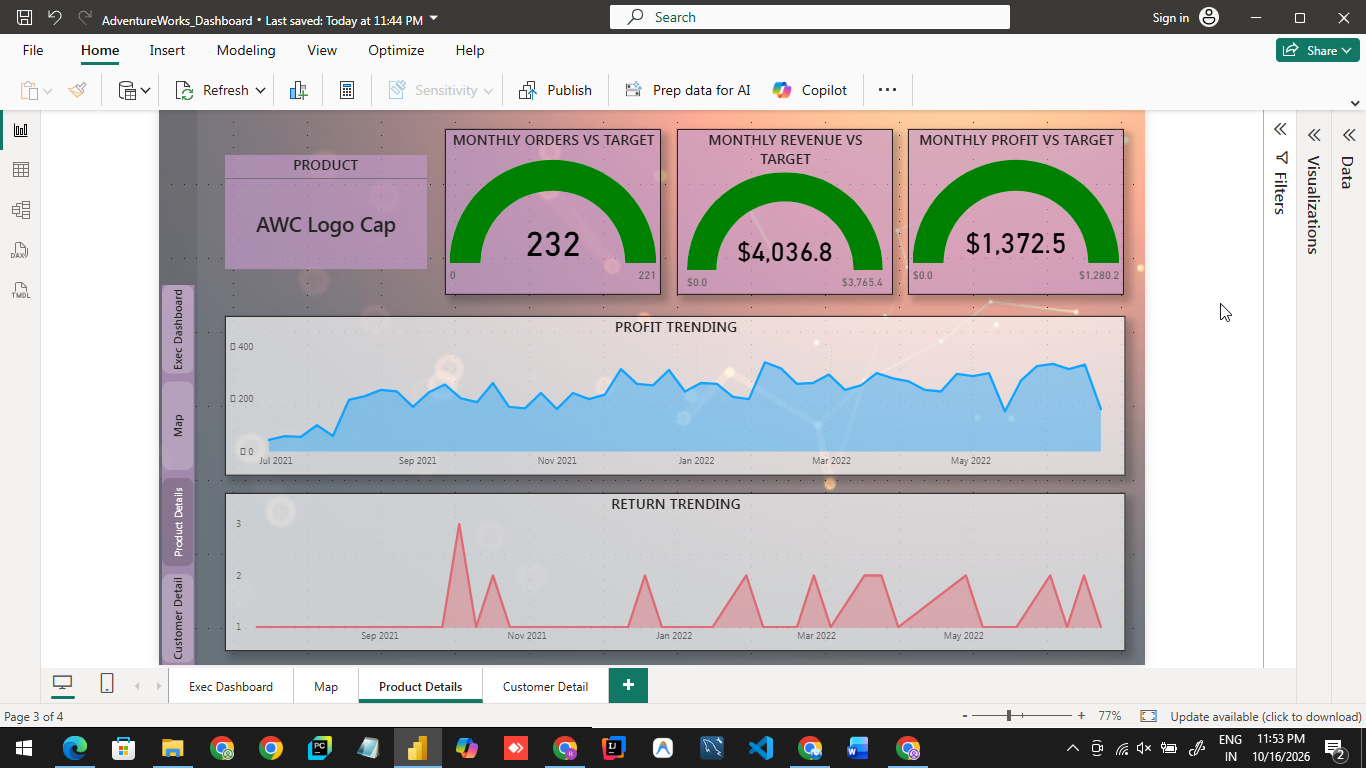

The page's visual inventory and layout, read from the dashboard file:
{"tool":"powerbi","page":{"name":"Product Details","canvas":[1280,720],"ordinal":2},"visuals":[{"type":"gauge","title":"MONTHLY ORDERS VS TARGET","fields":{"Y":["Measure Table.Total Orders"],"MaxValue":["Measure Table.Order Target"]},"box":[371.7,25,280,215],"z":0},{"type":"gauge","title":"MONTHLY REVENUE VS TARGET","fields":{"Y":["Measure Table.Total Revenue"],"MaxValue":["Measure Table.Revenue Target"]},"box":[671.7,25,280,215],"z":1000},{"type":"gauge","title":"MONTHLY PROFIT VS TARGET","fields":{"Y":["Measure Table.Total Profit"],"MaxValue":["Measure Table.Profit Target"]},"box":[971.7,25,280,215],"z":2000},{"type":"areaChart","title":"PROFIT TRENDING","fields":{"Y":["Measure Table.Total Profit"],"Category":["Calendar Lookup.Date Hierarchy.Start of Year","Calendar Lookup.Date Hierarchy.Start of Month","Calendar Lookup.Date Hierarchy.Start of Week","Calendar Lookup.Date Hierarchy.Date"]},"box":[85,266.7,1168.3,206.7],"z":3000},{"type":"areaChart","title":"RETURN TRENDING","fields":{"Y":["Measure Table.Total Returns"],"Category":["Calendar Lookup.Date Hierarchy.Start of Year","Calendar Lookup.Date Hierarchy.Start of Month","Calendar Lookup.Date Hierarchy.Start of Week","Calendar Lookup.Date Hierarchy.Date"]},"box":[85,496.7,1168.3,205],"z":4000},{"type":"card","title":"PRODUCT","fields":{"Values":["Min(Product Lookup.ProductName)"]},"box":[85,58.3,261.7,148.3],"z":5000},{"type":"shape","box":[0,0,50,720],"z":6000},{"type":"pageNavigator","box":[3.3,226.7,41.7,493.3],"z":7000}]}

Visuals, with their boxes on the page's 1280x720 design canvas (x1, y1, x2, y2). These are canvas units, not pixel positions in the 1366x768 screenshot, which may show the page scaled, cropped or inside an application window:
"MONTHLY ORDERS VS TARGET" gauge: (372, 25, 652, 240)
"MONTHLY REVENUE VS TARGET" gauge: (672, 25, 952, 240)
"MONTHLY PROFIT VS TARGET" gauge: (972, 25, 1252, 240)
"PROFIT TRENDING" areaChart: (85, 267, 1253, 473)
"RETURN TRENDING" areaChart: (85, 497, 1253, 702)
"PRODUCT" card: (85, 58, 347, 207)
shape: (0, 0, 50, 720)
pageNavigator: (3, 227, 45, 720)
